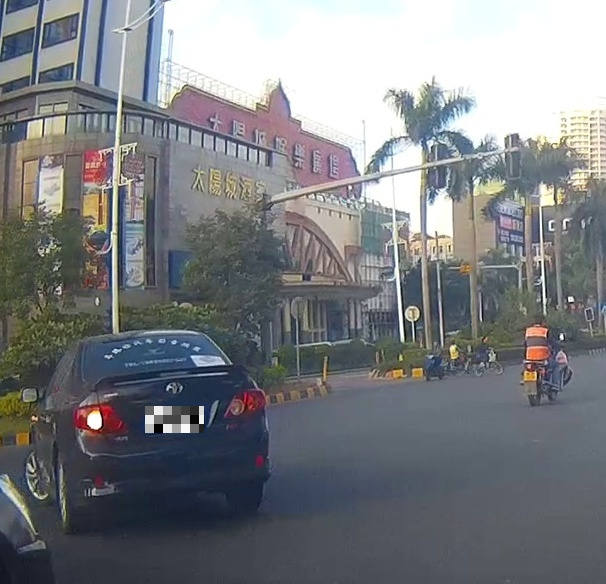L_light: (73, 403, 129, 434)
R_light: (222, 387, 267, 419)
T_light: (141, 335, 168, 340)
day-left: (69, 328, 270, 532)
plate_1: (145, 406, 204, 433)
